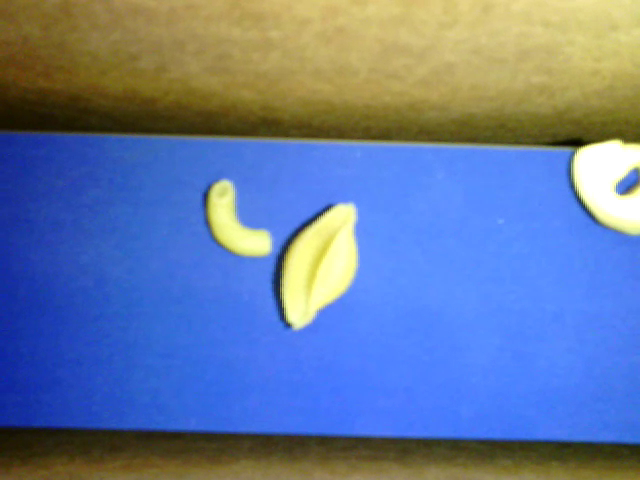elbow: (206, 178, 273, 257)
shell: (277, 203, 359, 330)
tortellini: (570, 138, 638, 235)
